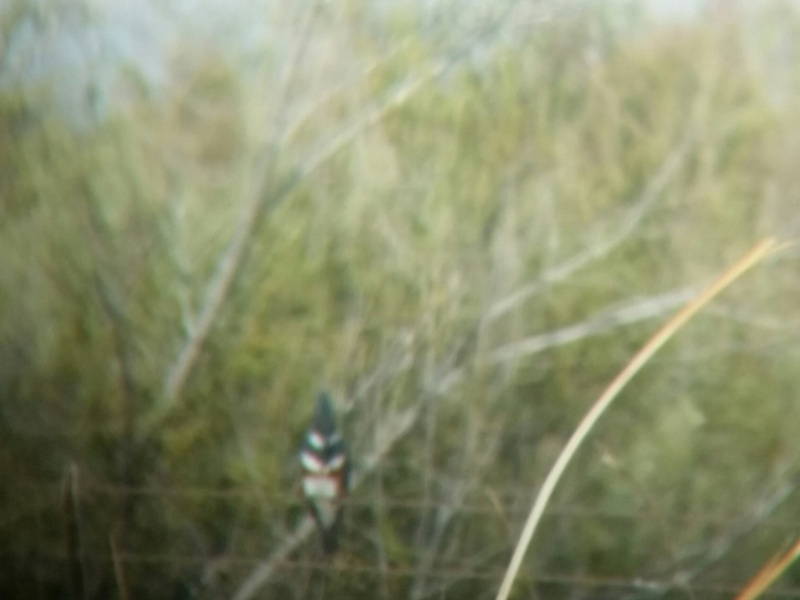kingfisher: (300, 391, 353, 554)
